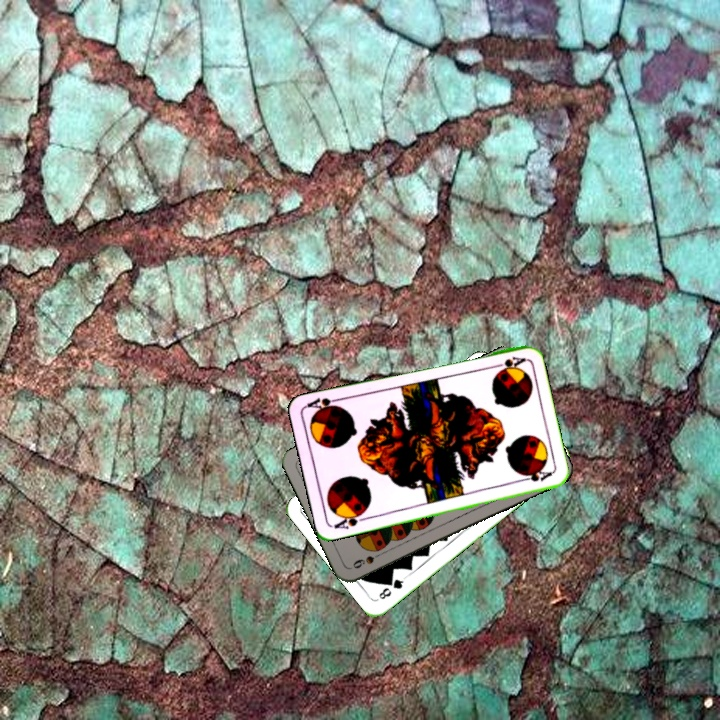G8: (374, 573, 408, 602)
S9: (348, 548, 387, 571)
SA: (330, 508, 370, 532), (487, 352, 527, 373)
